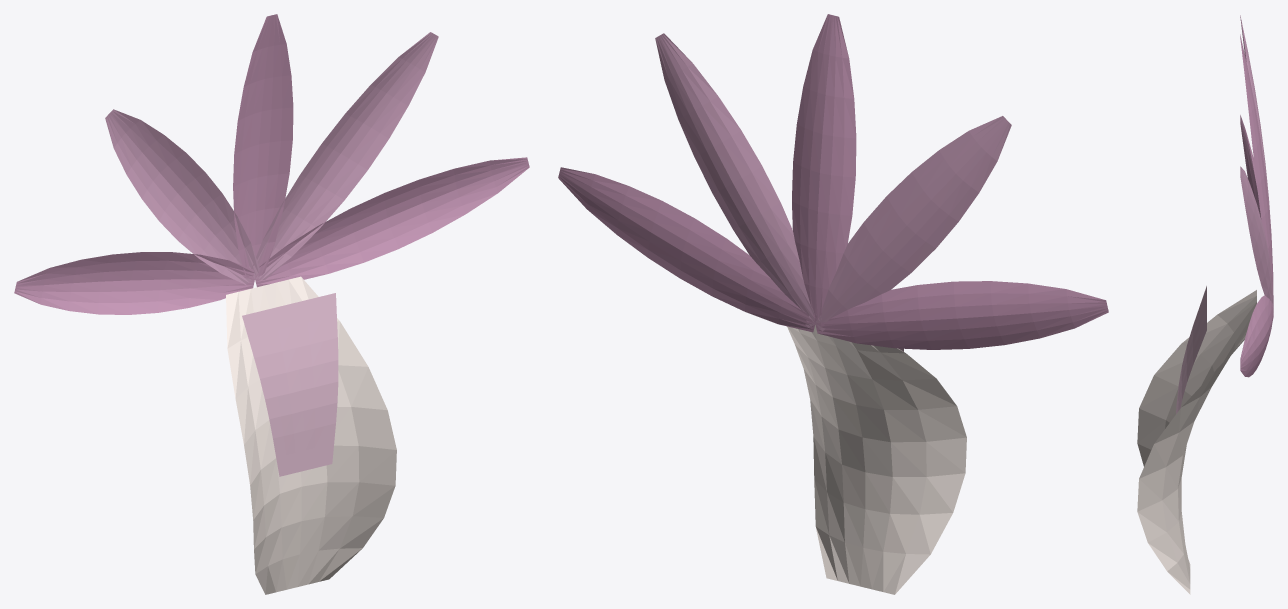
The model's file is flower.glb.
The picture shows the model from 3 angles, left to right: view 1: azimuth 30°, elevation 25°; view 2: azimuth 150°, elevation 25°; view 3: azimuth 270°, elevation 25°; orthographic projection. The views are drawn at different scales.
Parts seen in each view (by area): view 1: Calypso bulbosa — inferred reconstruction; view 2: Calypso bulbosa — inferred reconstruction; view 3: Calypso bulbosa — inferred reconstruction.
Boxes of the visible parts, x1,y1,x2,y2 form: Calypso bulbosa — inferred reconstruction: (14, 14, 529, 594); Calypso bulbosa — inferred reconstruction: (558, 14, 1108, 594); Calypso bulbosa — inferred reconstruction: (1137, 15, 1273, 594).
Size of the model in its own units: 0.0351 by 0.036 by 0.00818.
